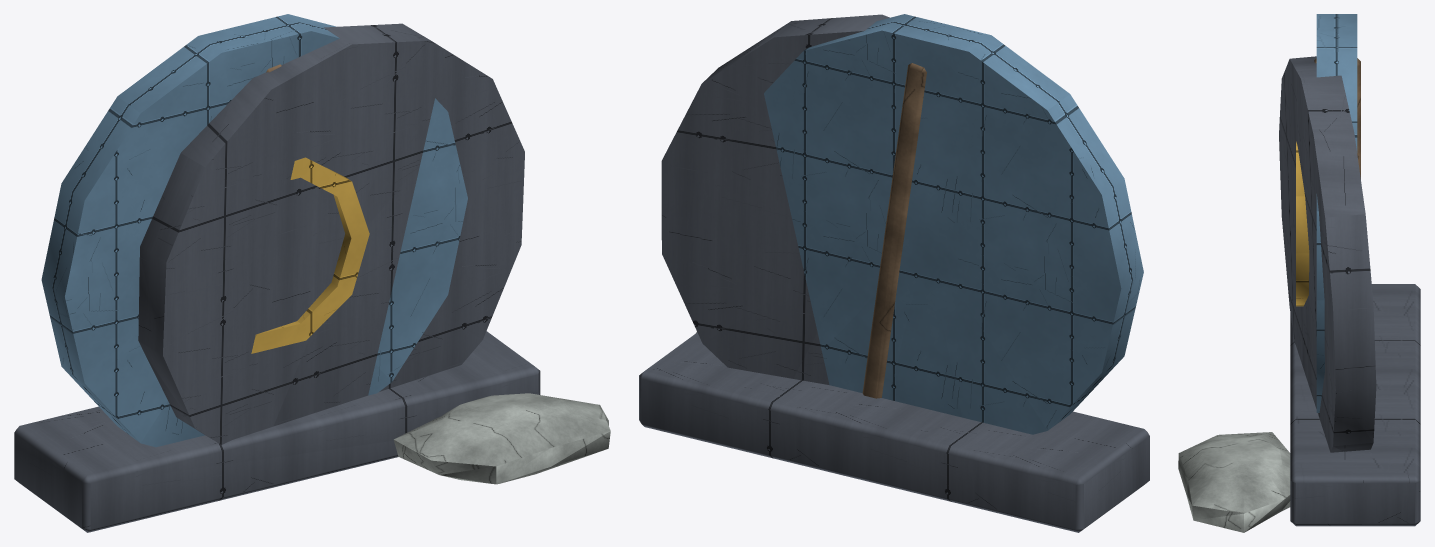
Rendered from cracked_pressure_door.glb.
3 renders of one model, left to right at view 1: azimuth 30°, elevation 25°; view 2: azimuth 150°, elevation 25°; view 3: azimuth 270°, elevation 25°, orthographic. The views are drawn at different scales.
Visible parts, largest first — view 1: DL010_CrackedPressureDoor_metal_dark, DL010_CrackedPressureDoor_faded_blue, DL010_CrackedPressureDoor_mineral, DL010_CrackedPressureDoor_amber_accent; view 2: DL010_CrackedPressureDoor_faded_blue, DL010_CrackedPressureDoor_metal_dark, DL010_CrackedPressureDoor_corrosion; view 3: DL010_CrackedPressureDoor_metal_dark, DL010_CrackedPressureDoor_mineral, DL010_CrackedPressureDoor_faded_blue, DL010_CrackedPressureDoor_amber_accent, DL010_CrackedPressureDoor_corrosion.
Boxes of the visible parts, x1,y1,x2,y2 form: DL010_CrackedPressureDoor_metal_dark: [14, 23, 540, 532]; DL010_CrackedPressureDoor_faded_blue: [41, 14, 467, 447]; DL010_CrackedPressureDoor_mineral: [393, 393, 610, 484]; DL010_CrackedPressureDoor_amber_accent: [251, 157, 369, 353]; DL010_CrackedPressureDoor_faded_blue: [764, 14, 1143, 434]; DL010_CrackedPressureDoor_metal_dark: [639, 14, 1149, 532]; DL010_CrackedPressureDoor_corrosion: [862, 63, 926, 398]; DL010_CrackedPressureDoor_metal_dark: [1279, 56, 1420, 526]; DL010_CrackedPressureDoor_mineral: [1178, 432, 1290, 532]; DL010_CrackedPressureDoor_faded_blue: [1316, 14, 1357, 412]; DL010_CrackedPressureDoor_amber_accent: [1296, 141, 1309, 306]; DL010_CrackedPressureDoor_corrosion: [1314, 58, 1360, 178].
Size of the model in its own units: 2.74 by 2.3 by 1.3.
Materials: 5 (5 with a texture image).
